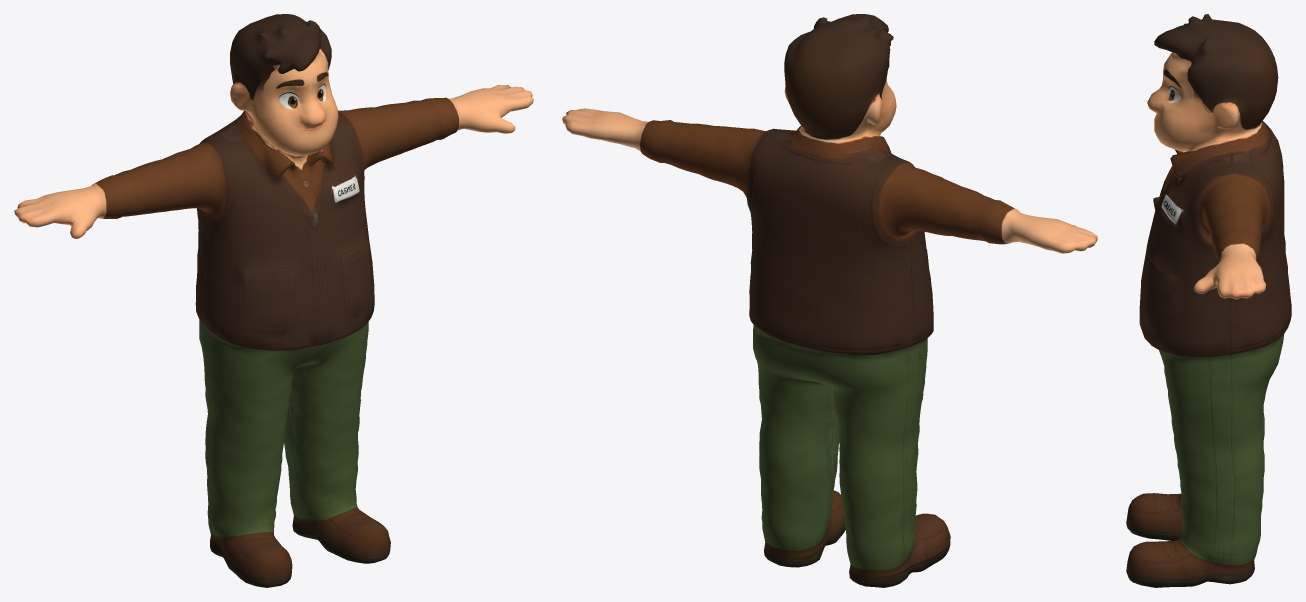
File: Meshy_AI_Open_Armed_Cashier_0531140559_texture.fbx
The picture shows the model from 3 angles, left to right: view 1: azimuth 30°, elevation 25°; view 2: azimuth 150°, elevation 25°; view 3: azimuth 270°, elevation 25°; orthographic projection. The views are drawn at different scales.
Parts seen in each view (by area): view 1: Mesh_0; view 2: Mesh_0; view 3: Mesh_0.
Boxes of the visible parts, left/top/right/bottom form: Mesh_0: left=14, top=14, right=533, bottom=587; Mesh_0: left=562, top=14, right=1097, bottom=587; Mesh_0: left=1126, top=14, right=1291, bottom=587.
Size of the model in its own units: 191 by 187 by 52.84.
Materials: 1 (1 with a texture image).
